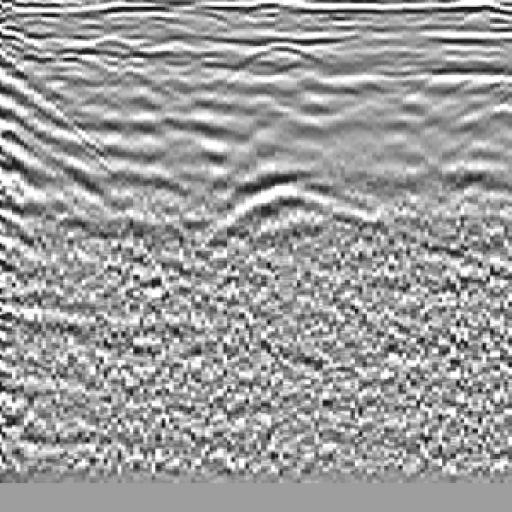metalic: (200, 151, 380, 283)
nonmetalic: (1, 48, 116, 259)
